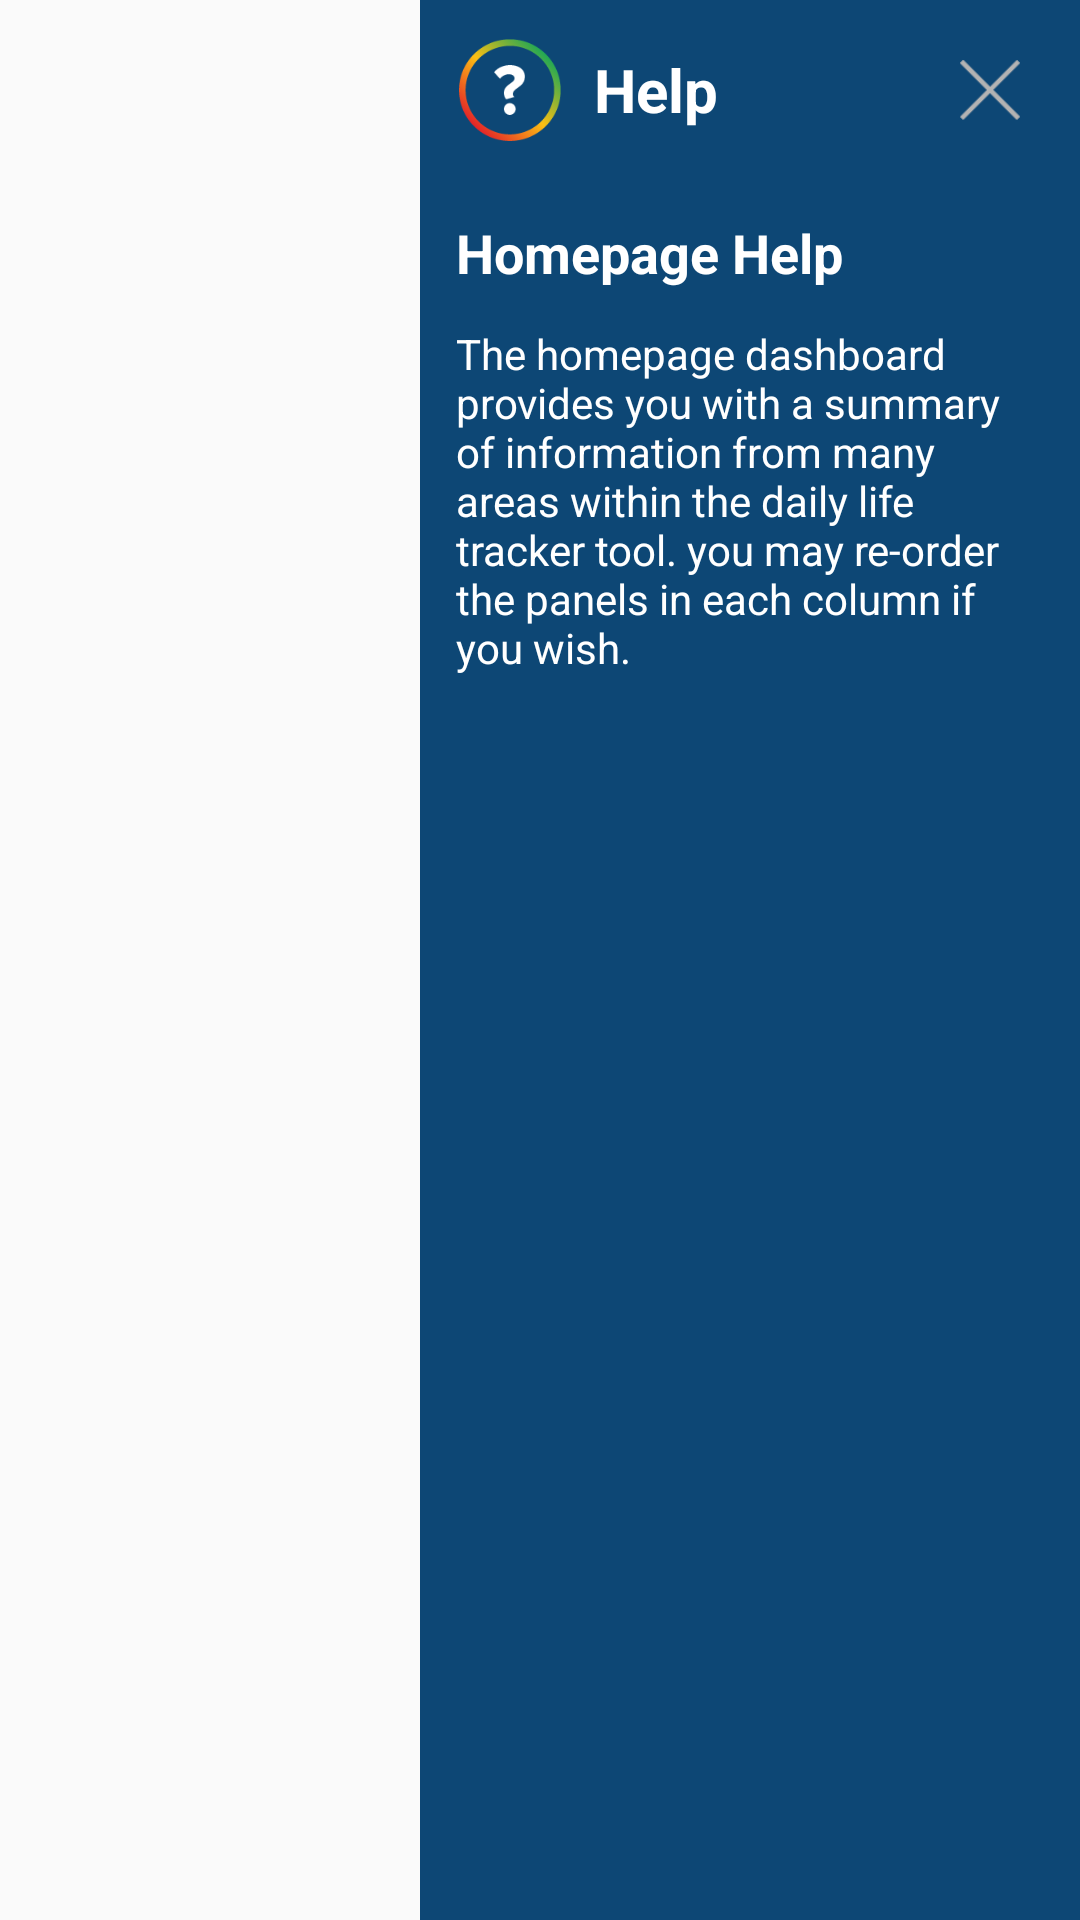

Where to tap for icons on this 1080px x 1920px app screen, as point (x, y):
close: point (990, 90)
